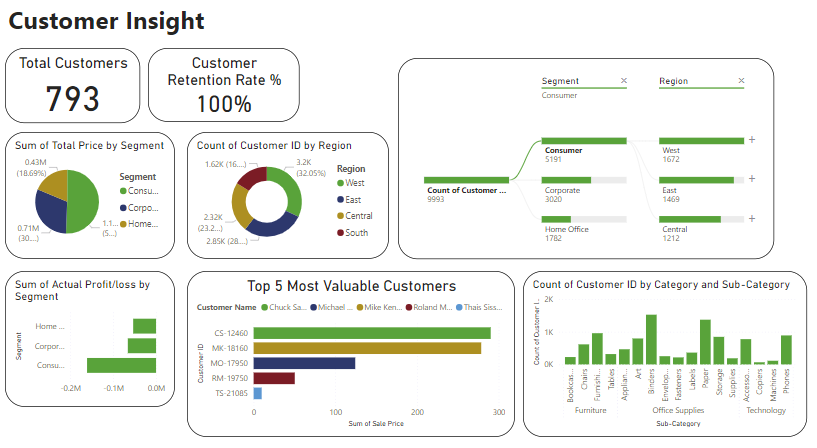

Layout of this report page (visuals, bound fields, positions):
{"tool":"powerbi","page":{"name":"Customer Insights Page","canvas":[1280,720],"ordinal":3},"visuals":[{"type":"pieChart","fields":{"Y":["Sum(Sample - Superstore.Total Price)"],"Category":["Sample - Superstore.Segment"]},"box":[19.9,224.5,260.3,194.4],"z":0},{"type":"barChart","fields":{"Category":["Sample - Superstore.Segment"],"Y":["Sum(Sample - Superstore.Actutal Profit/loss)"]},"box":[19.9,437.4,260.3,208.2],"z":1000},{"type":"card","title":"Total Customers","fields":{"Values":["Count(Sample - Superstore.Customer ID)"]},"box":[19.9,95.9,206.7,114.8],"z":2000},{"type":"card","title":"Customer Retention Rate %","fields":{"Values":["Sample - Superstore.Retention Rate"]},"box":[238.3,96.7,231.7,113.3],"z":3000},{"type":"barChart","title":"Top 5 Most Valuable Customers","fields":{"Category":["Sample - Superstore.Customer ID"],"Y":["Sum(Sample - Superstore.Sale Price)"],"Series":["Sample - Superstore.Customer Name"]},"box":[298.6,437.4,502.2,254.2],"z":4000},{"type":"donutChart","fields":{"Category":["Sample - Superstore.Region"],"Y":["CountNonNull(Sample - Superstore.Customer ID)"]},"box":[298.6,224.5,309.3,194.4],"z":5000},{"type":"decompositionTreeVisual","fields":{"ExplainBy":["Sample - Superstore.Segment","Sample - Superstore.Region","Sample - Superstore.City","Sample - Superstore.State"],"Analyze":["CountNonNull(Sample - Superstore.Customer Name)"]},"box":[621.6,111.2,575.7,307.8],"z":6000},{"type":"clusteredColumnChart","fields":{"Y":["CountNonNull(Sample - Superstore.Customer ID)"],"Category":["Sample - Superstore.Category","Sample - Superstore.Sub-Category"]},"box":[813,437.4,434.8,254.2],"z":7000},{"type":"textbox","box":[19.9,23,384.3,68.9],"z":8000}]}

Visuals, with their boxes in screenshot pixels (x1, y1, x2, y2), scaled from the page's 1280x720 canvas onto the 817x448 screenshot:
pieChart - Sum(Sample - Superstore.Total Price) x Sample - Superstore.Segment: bbox=(13, 140, 179, 261)
barChart - Sample - Superstore.Segment x Sum(Sample - Superstore.Actutal Profit/loss): bbox=(13, 272, 179, 402)
"Total Customers" card: bbox=(13, 60, 145, 131)
"Customer Retention Rate %" card: bbox=(152, 60, 300, 131)
"Top 5 Most Valuable Customers" barChart: bbox=(191, 272, 511, 430)
donutChart - Sample - Superstore.Region x CountNonNull(Sample - Superstore.Customer ID): bbox=(191, 140, 388, 261)
decompositionTreeVisual - Sample - Superstore.Segment x Sample - Superstore.Region: bbox=(397, 69, 764, 261)
clusteredColumnChart - CountNonNull(Sample - Superstore.Customer ID) x Sample - Superstore.Category: bbox=(519, 272, 796, 430)
textbox: bbox=(13, 14, 258, 57)
